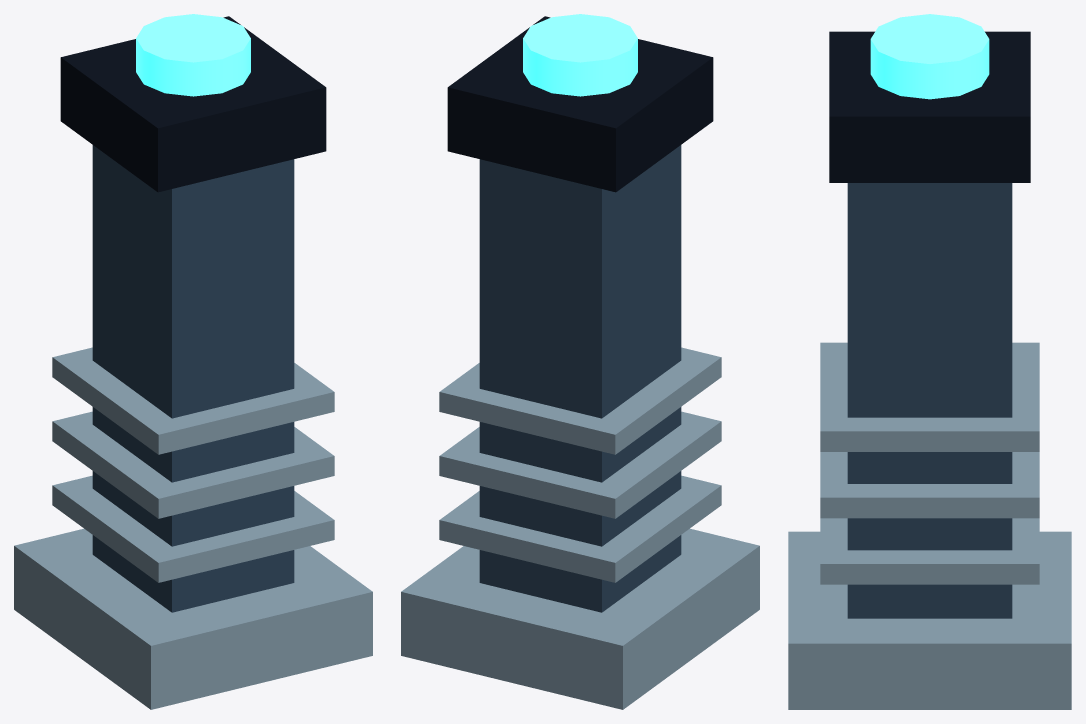
Rendered from laser.glb.
3 renders of one model, left to right at view 1: azimuth 30°, elevation 25°; view 2: azimuth 150°, elevation 25°; view 3: azimuth 270°, elevation 25°, orthographic. The views are drawn at different scales.
Parts seen in each view (by area): view 1: laser-gimbal-sz-armor, security-laser-sz-edge, laser-gimbal-sz-edge, laser-gimbal-sz-rubber, laser-gimbal-sz-security-indicator; view 2: laser-gimbal-sz-armor, security-laser-sz-edge, laser-gimbal-sz-edge, laser-gimbal-sz-rubber, laser-gimbal-sz-security-indicator; view 3: laser-gimbal-sz-armor, security-laser-sz-edge, laser-gimbal-sz-edge, laser-gimbal-sz-rubber, laser-gimbal-sz-security-indicator.
Boxes of the visible parts, bbox=[...] form: laser-gimbal-sz-armor: bbox=[92, 145, 294, 612]; security-laser-sz-edge: bbox=[14, 528, 372, 709]; laser-gimbal-sz-edge: bbox=[52, 347, 334, 582]; laser-gimbal-sz-rubber: bbox=[60, 16, 326, 192]; laser-gimbal-sz-security-indicator: bbox=[136, 14, 250, 96]; laser-gimbal-sz-armor: bbox=[479, 145, 681, 612]; security-laser-sz-edge: bbox=[401, 528, 759, 709]; laser-gimbal-sz-edge: bbox=[439, 347, 721, 582]; laser-gimbal-sz-rubber: bbox=[447, 16, 713, 192]; laser-gimbal-sz-security-indicator: bbox=[523, 14, 637, 96]; laser-gimbal-sz-armor: bbox=[847, 183, 1012, 618]; security-laser-sz-edge: bbox=[788, 531, 1071, 709]; laser-gimbal-sz-edge: bbox=[820, 342, 1039, 584]; laser-gimbal-sz-rubber: bbox=[829, 31, 1030, 182]; laser-gimbal-sz-security-indicator: bbox=[870, 14, 989, 99].
Size of the model in its own units: 0.29 by 0.7425 by 0.31.
